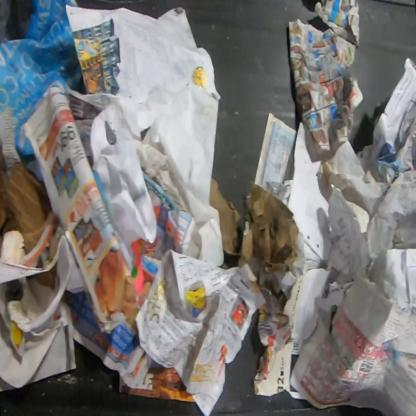cardboard: (209, 177, 300, 275), (0, 139, 52, 265)
